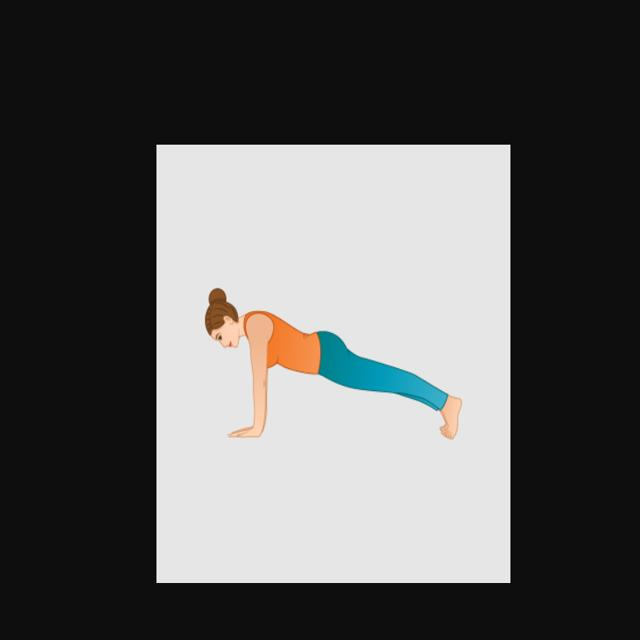Plank_Pose: (204, 283, 464, 439)
